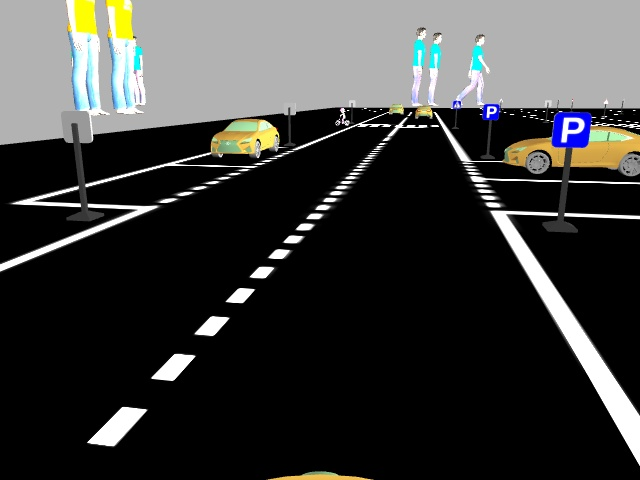Parking: (552, 108, 592, 149), (480, 102, 499, 120)
